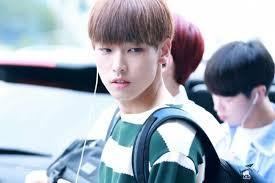earphone: (250, 90, 261, 103)
